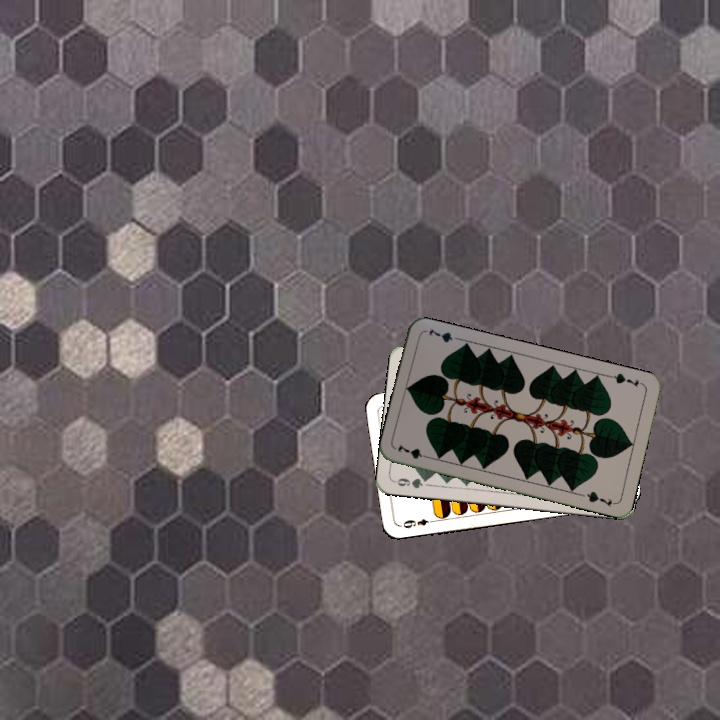E9: (399, 515, 438, 531)
G7: (393, 440, 433, 462), (605, 369, 646, 390)
G9: (391, 473, 432, 491)
